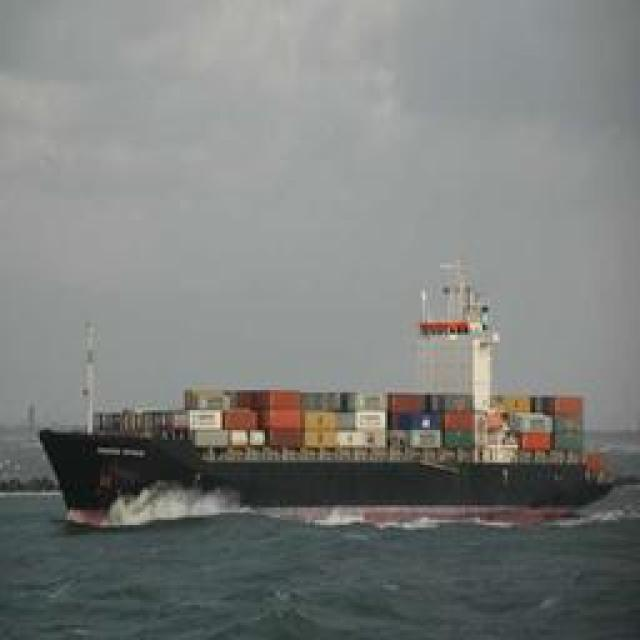ship: (45, 402, 623, 516)
